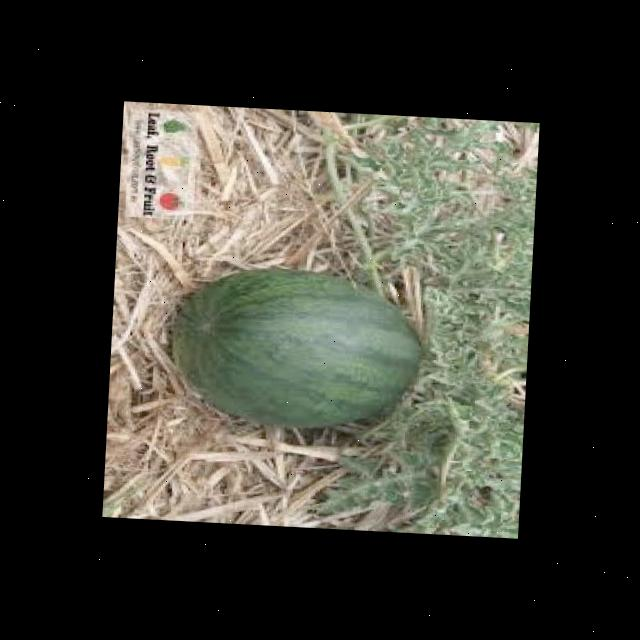watermelon: (166, 262, 426, 436)
